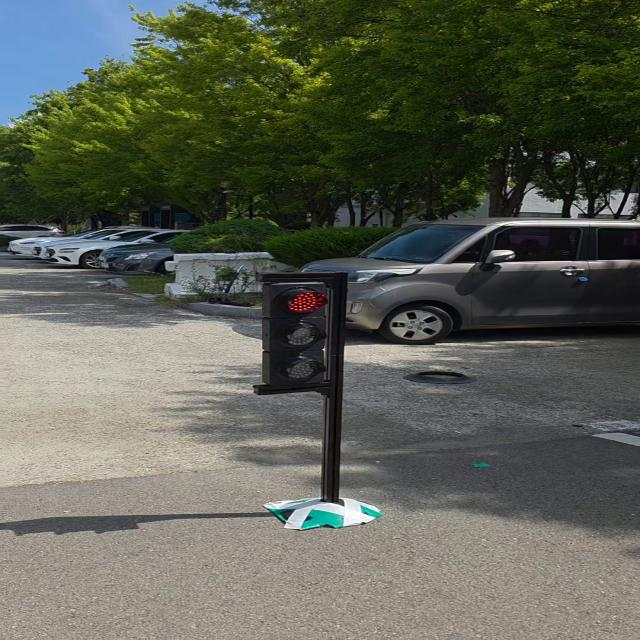red: (258, 278, 329, 392)
